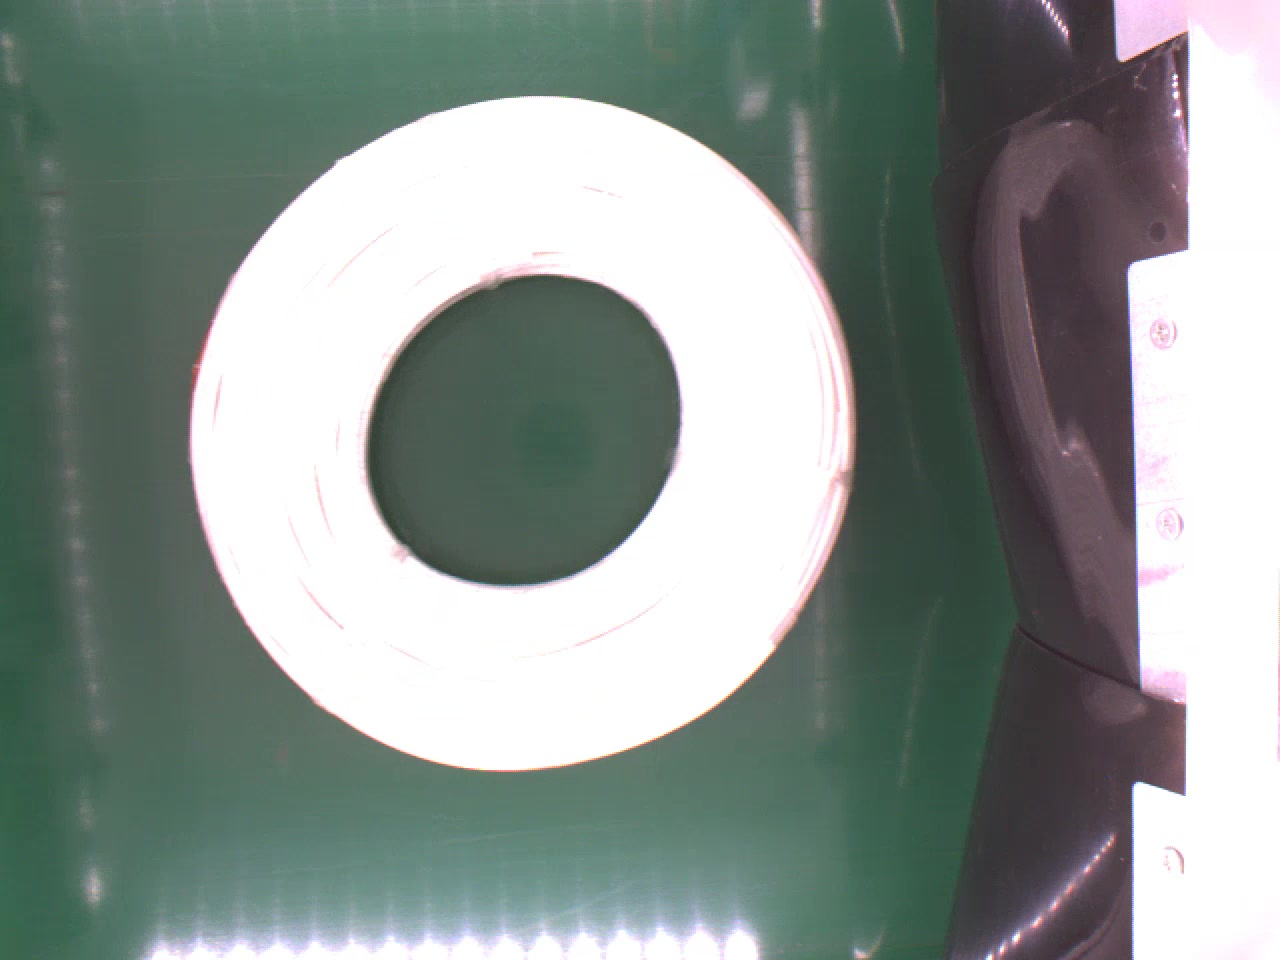white: (181, 91, 865, 784)
